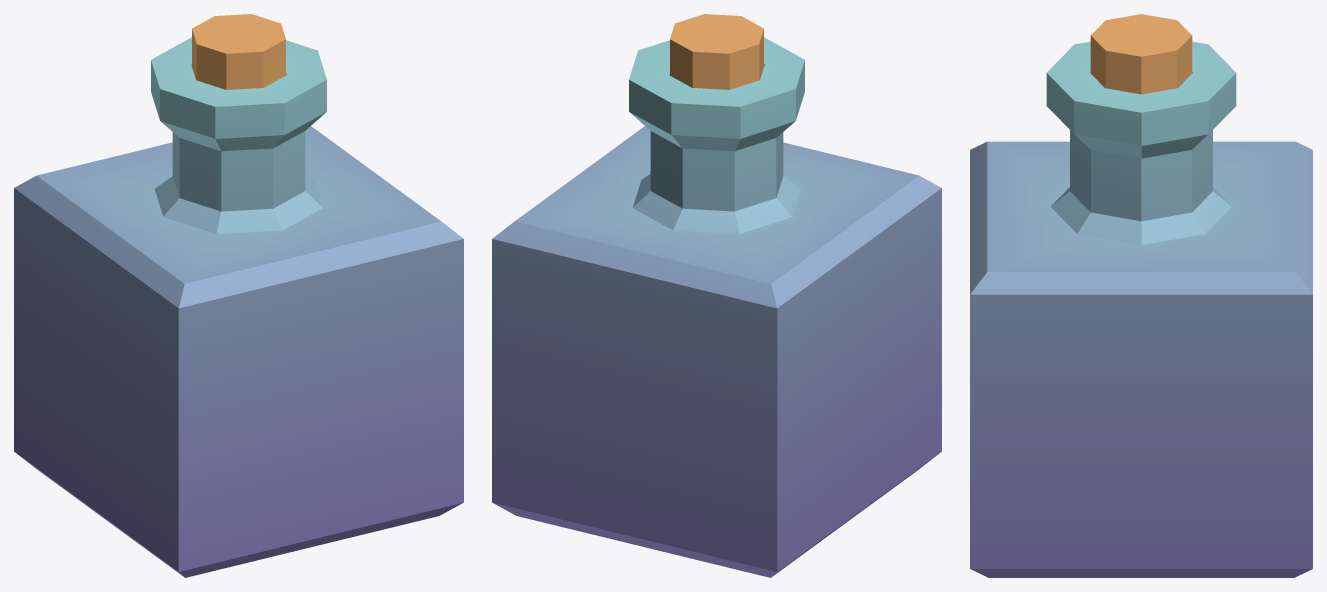
Rendered from Assets.fbx_FlaskSquare.fbx.
3 renders of one model, left to right at view 1: azimuth 30°, elevation 25°; view 2: azimuth 150°, elevation 25°; view 3: azimuth 270°, elevation 25°, orthographic. The views are drawn at different scales.
Parts seen in each view (by area): view 1: FlaskSquare; view 2: FlaskSquare; view 3: FlaskSquare.
Boxes of the visible parts, x1,y1,x2,y2 form: FlaskSquare: (14, 14, 463, 577); FlaskSquare: (492, 14, 941, 577); FlaskSquare: (970, 14, 1312, 577).
Size of the model in its own units: 9.32 by 14.34 by 9.32.
